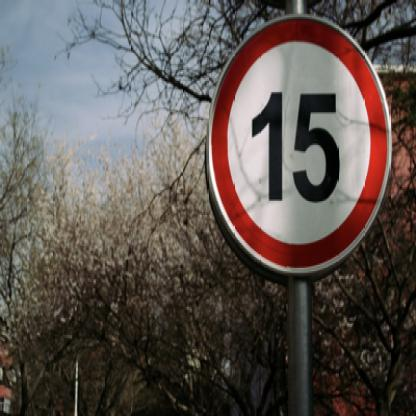speedlimit: (203, 14, 391, 280)
